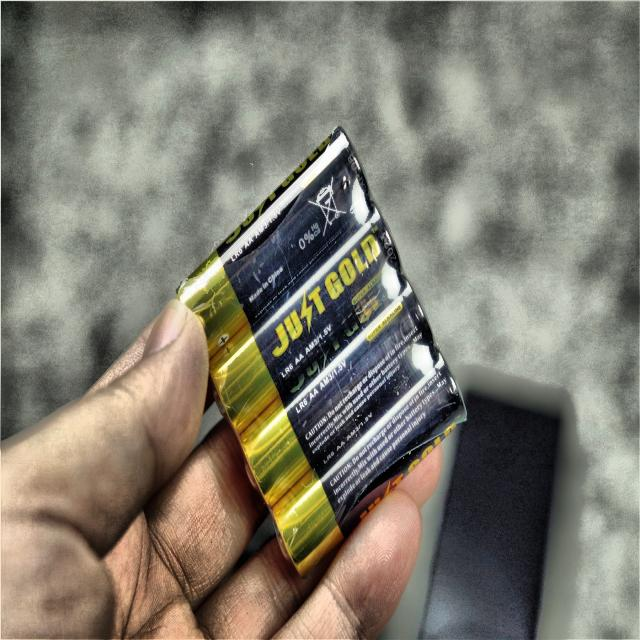Non-Valuable Waste - Batteries: (178, 128, 465, 574)
